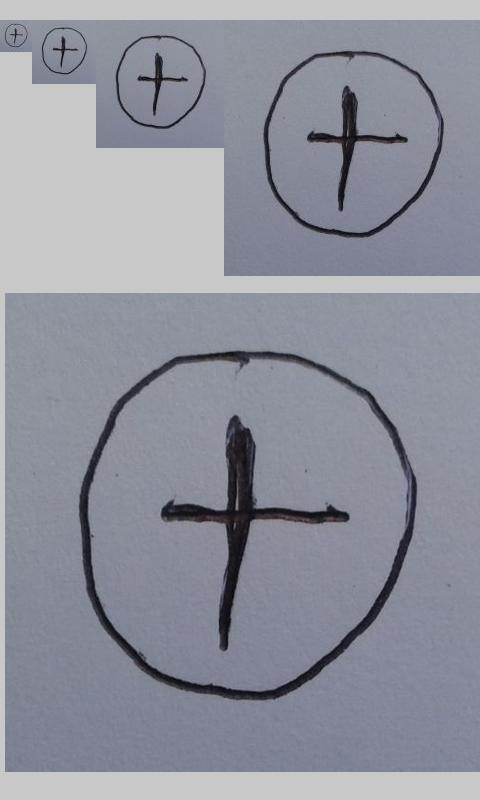button: (76, 347, 420, 705), (263, 50, 444, 238), (115, 34, 206, 129), (41, 27, 88, 75), (4, 23, 28, 47)
